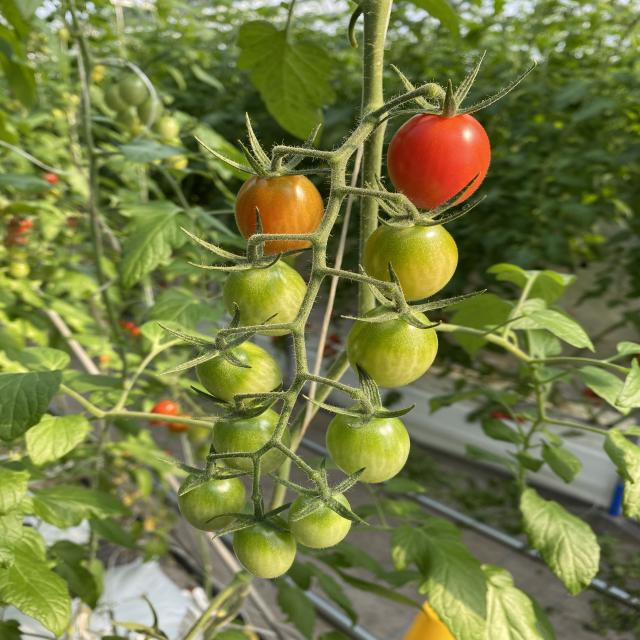c-half-riped: (233, 168, 324, 258)
c-riped: (386, 107, 491, 210)
c-unriped: (363, 212, 459, 302), (345, 303, 439, 387), (224, 255, 312, 337), (326, 403, 411, 484), (194, 337, 282, 404), (213, 403, 291, 475), (178, 463, 248, 532), (231, 511, 298, 579), (288, 486, 352, 549)
